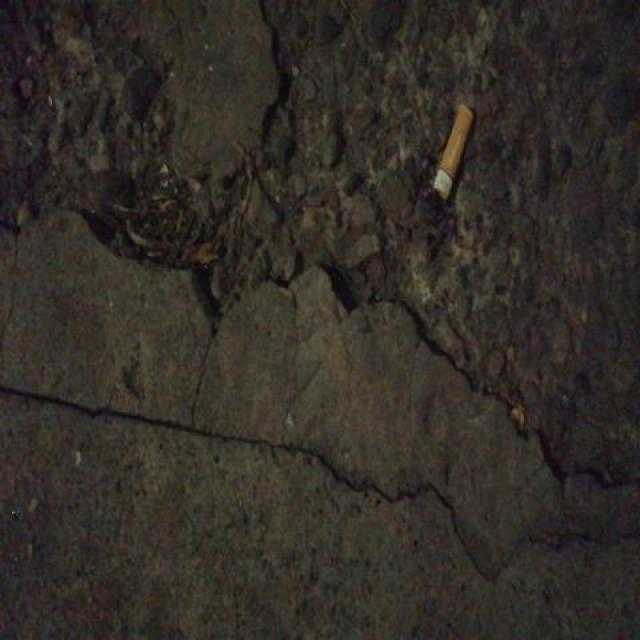non-organic waste: (425, 100, 480, 207)
